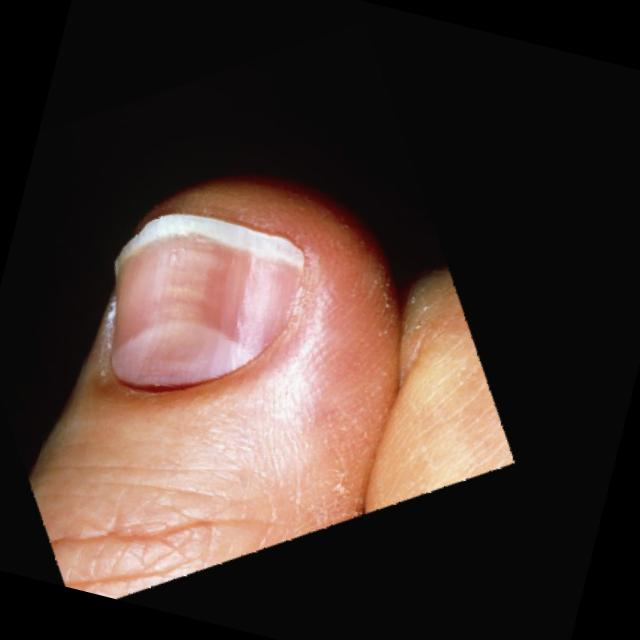Nail: (109, 213, 302, 388)
